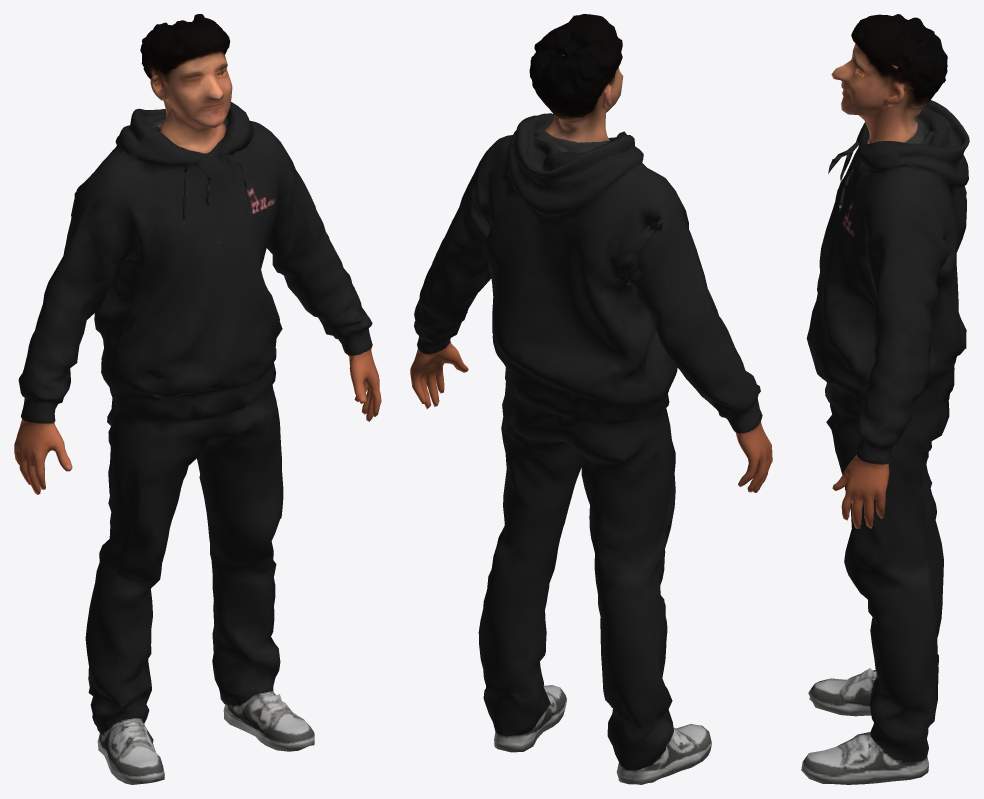
File: shams.glb
3 views of the same model, side by side, from view 1: azimuth 30°, elevation 25°; view 2: azimuth 150°, elevation 25°; view 3: azimuth 270°, elevation 25° (orthographic).
Parts seen in each view (by area): view 1: body; view 2: body; view 3: body.
Part boxes in pixels (<box>): body: <box>14,14,381,784</box>; body: <box>410,14,772,784</box>; body: <box>801,14,969,784</box>.
Bounding box in the file's own units: 0.916 × 1.8 × 0.3794.
1 material, 1 textured.
